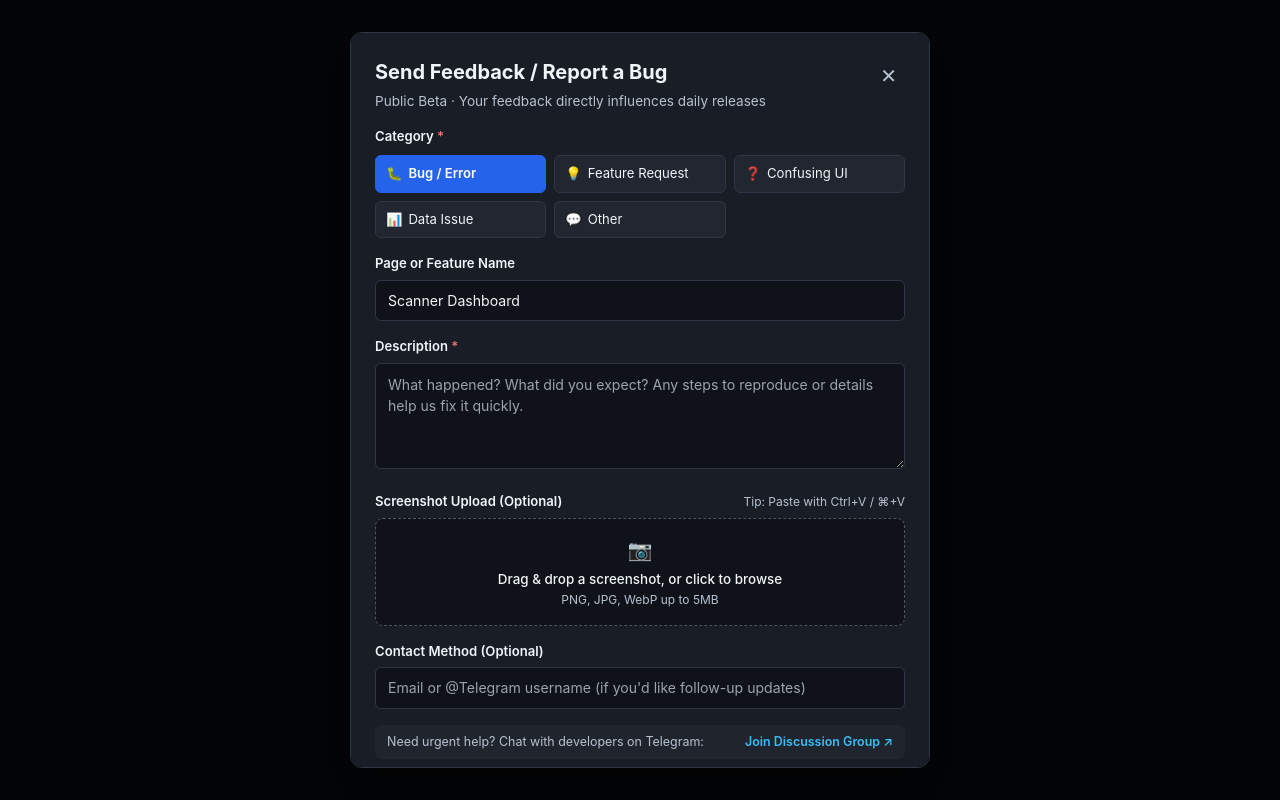
Test: FeedbackModal › allows typing message and submitting feedback
The width and height of the screenshot is (1280, 800).
Replace the text in the text box labelled "Description *" with "Buttons are misaligned on Safari.": (640, 416) [375,363,905,469]
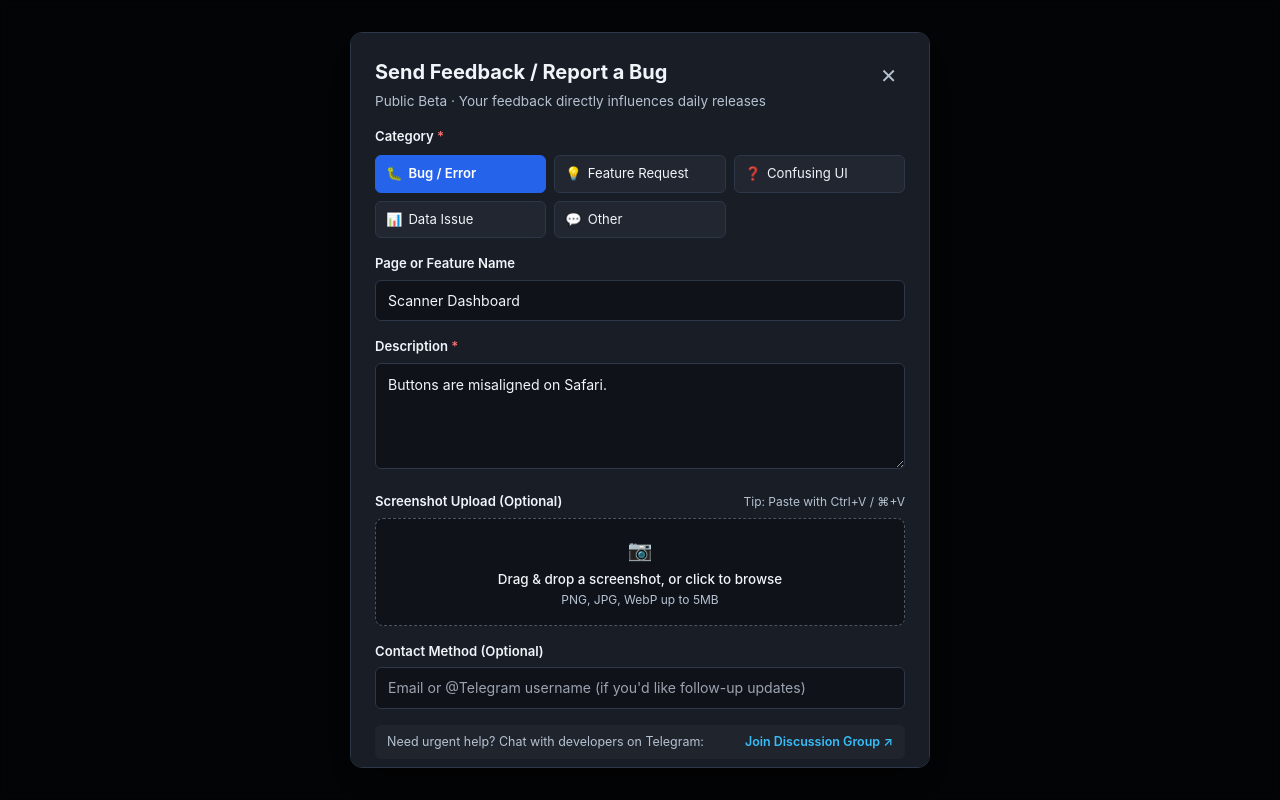
Note: Click Category: Confusing UI
Click the text "Confusing UI": (807, 174) [767,164,848,184]
(page scrolled)
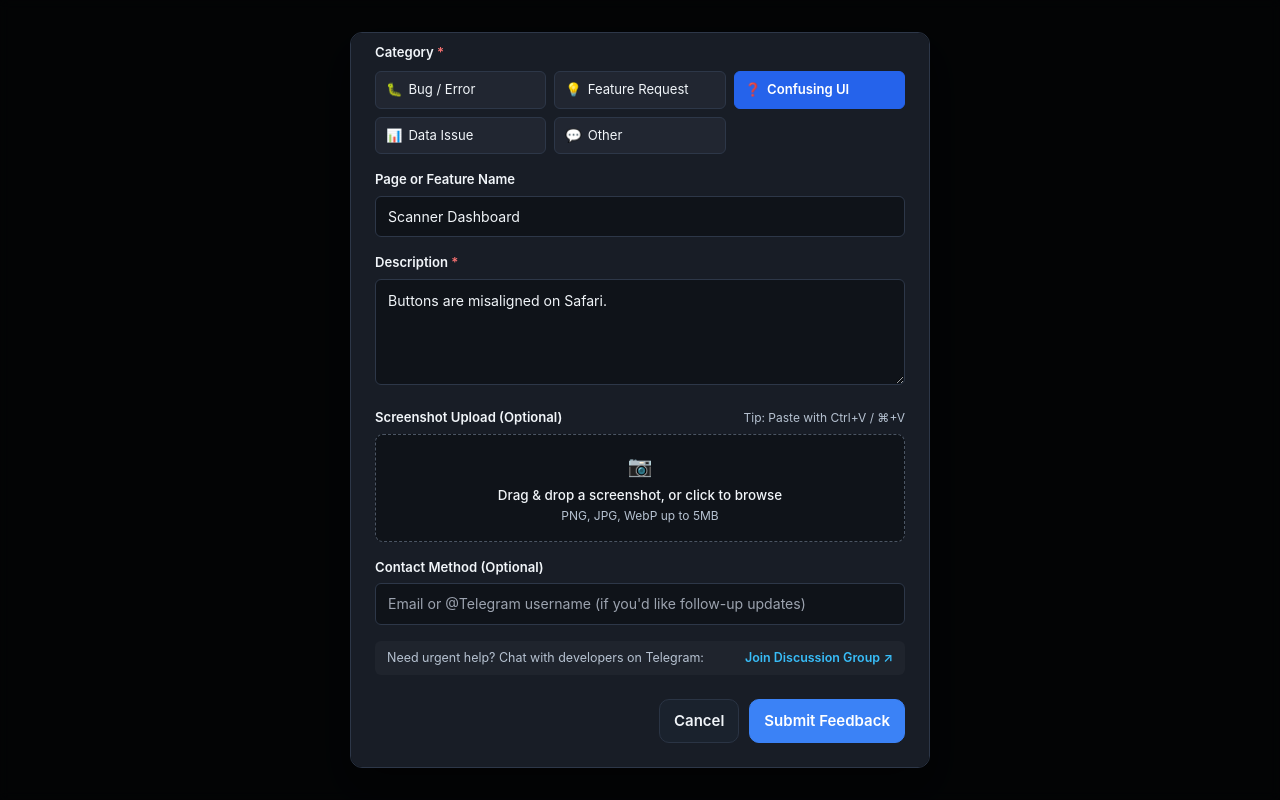
Click the button "Submit Feedback": (827, 721) [749,699,905,743]
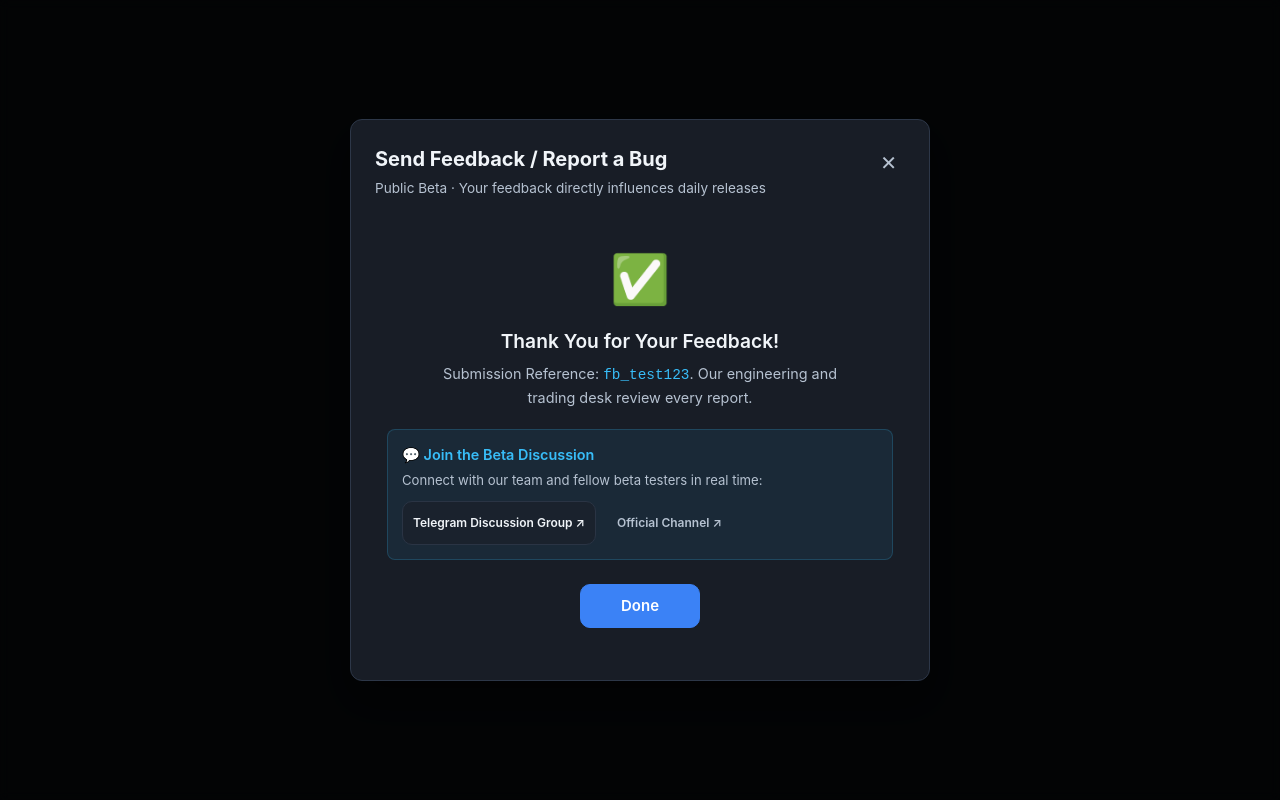
Expected: the heading "Thank You for Your Feedback!" is shown, [501,328,779,352]
